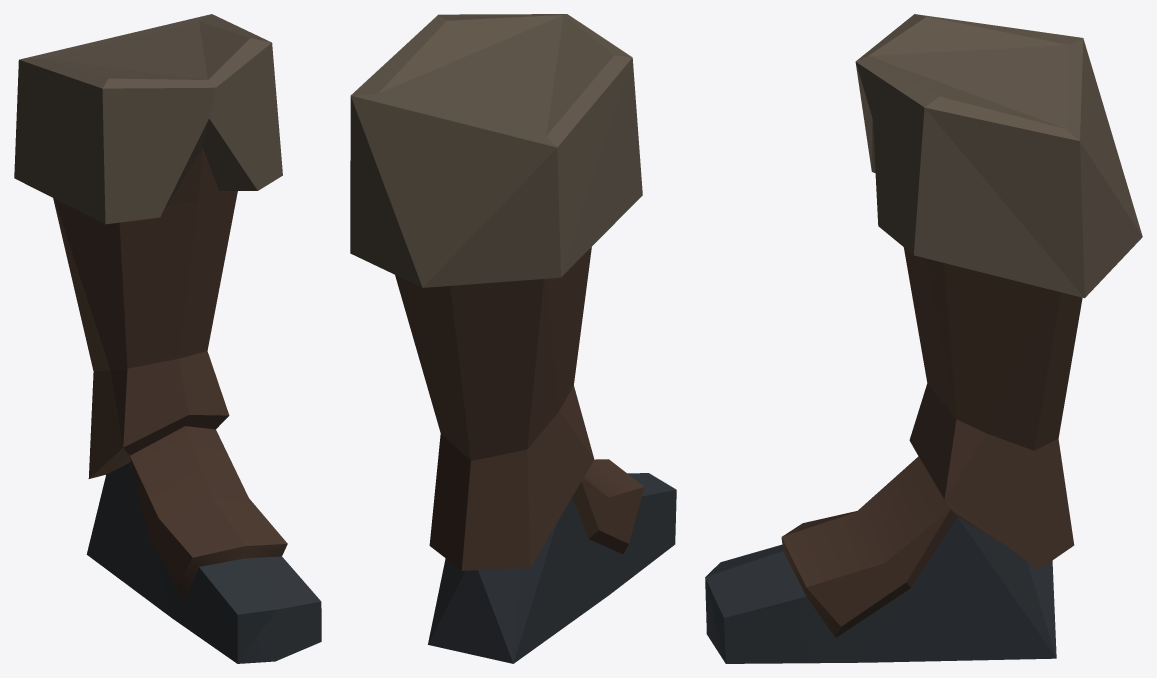
Rendered from Chr_LegLeft_Female_19_Static.fbx.
3 views of the same model, side by side, from view 1: azimuth 30°, elevation 25°; view 2: azimuth 150°, elevation 25°; view 3: azimuth 270°, elevation 25° (orthographic). The views are drawn at different scales.
Visible parts, largest first — view 1: Chr_LegLeft_Female_19_Static; view 2: Chr_LegLeft_Female_19_Static; view 3: Chr_LegLeft_Female_19_Static.
Part boxes in pixels (x1,y1,x2,y2): Chr_LegLeft_Female_19_Static: [14, 14, 321, 663]; Chr_LegLeft_Female_19_Static: [350, 14, 676, 663]; Chr_LegLeft_Female_19_Static: [705, 14, 1142, 663].
Bounding box in the file's own units: 0.1573 × 0.4045 × 0.276.
